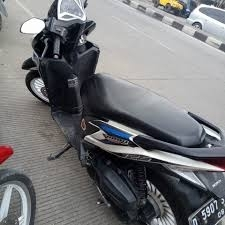plate: (185, 195, 225, 224)
